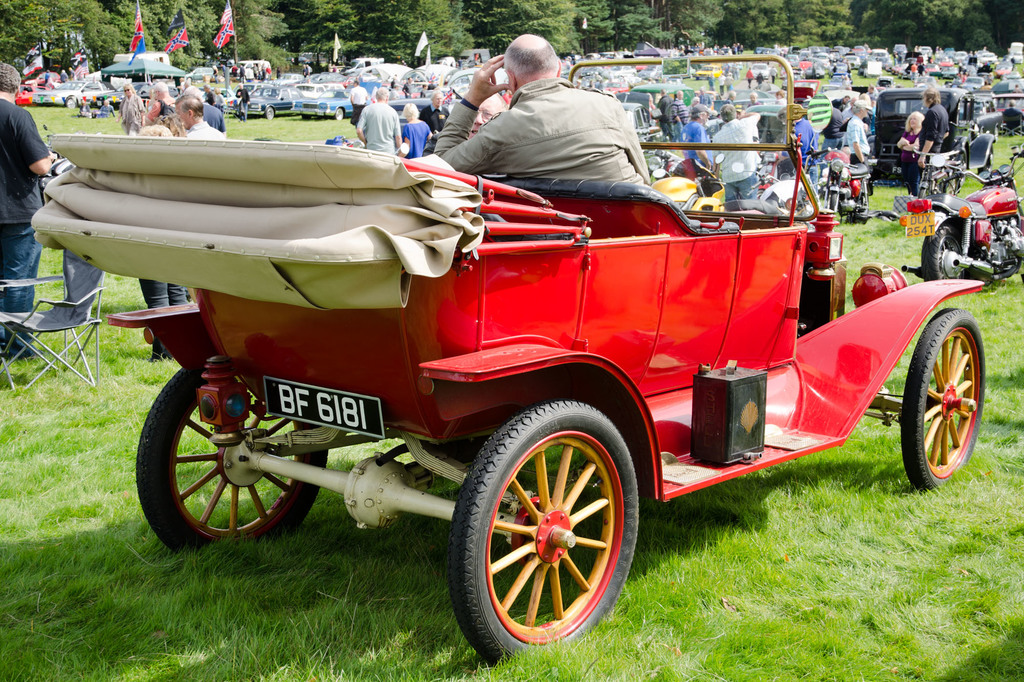car: (71, 109, 1015, 660), (872, 88, 990, 173), (25, 79, 121, 107), (247, 85, 311, 121), (295, 85, 352, 121)
